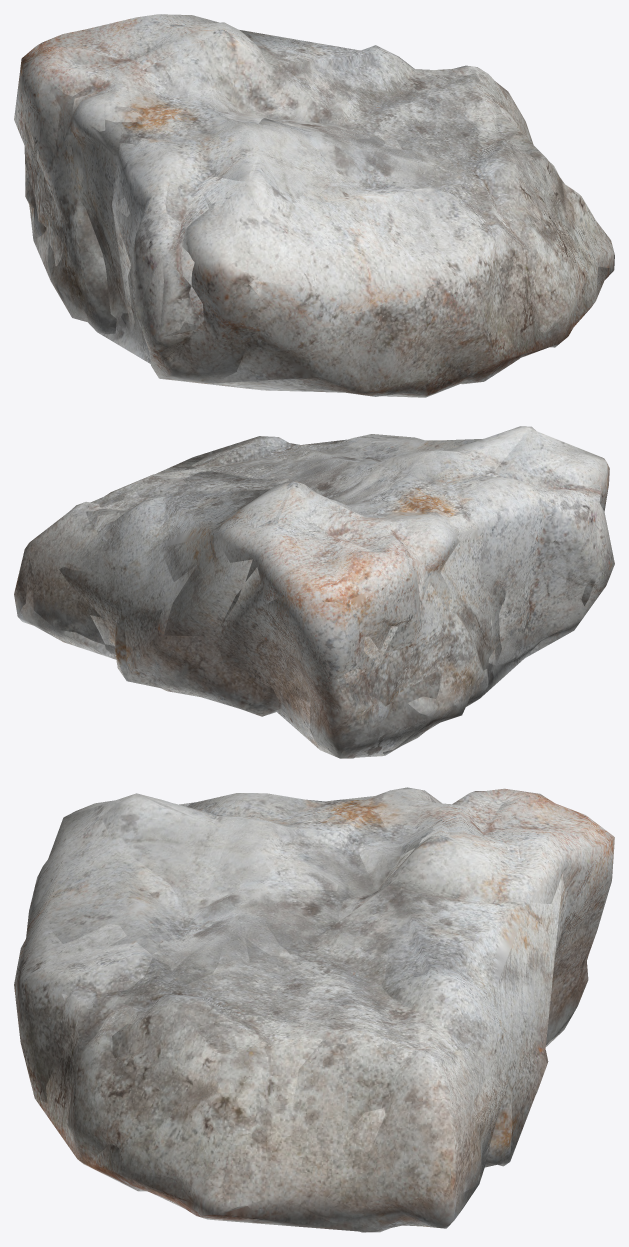
Rendered from granite_rocks_pfyss.glb.
The picture shows the model from 3 angles, top to bottom: view 1: azimuth 30°, elevation 25°; view 2: azimuth 150°, elevation 25°; view 3: azimuth 270°, elevation 25°; orthographic projection. The views are drawn at different scales.
Parts seen in each view (by area): view 1: pfyss_LOD0_TIER2_000, pfyss_LOD0_TIER2_000_MatID_1_0_far; view 2: pfyss_LOD0_TIER2_000, pfyss_LOD0_TIER2_000_MatID_1_0_far; view 3: pfyss_LOD0_TIER2_000, pfyss_LOD0_TIER2_000_MatID_1_0_far.
Boxes of the visible parts, left/top/right/bottom form: pfyss_LOD0_TIER2_000: left=14, top=14, right=614, bottom=397; pfyss_LOD0_TIER2_000_MatID_1_0_far: left=21, top=24, right=609, bottom=393; pfyss_LOD0_TIER2_000: left=14, top=426, right=614, bottom=758; pfyss_LOD0_TIER2_000_MatID_1_0_far: left=18, top=428, right=614, bottom=758; pfyss_LOD0_TIER2_000: left=14, top=787, right=614, bottom=1232; pfyss_LOD0_TIER2_000_MatID_1_0_far: left=22, top=791, right=609, bottom=1232.
Size of the model in its own units: 0.67 by 0.3111 by 0.6375.
1 material, 1 textured.
